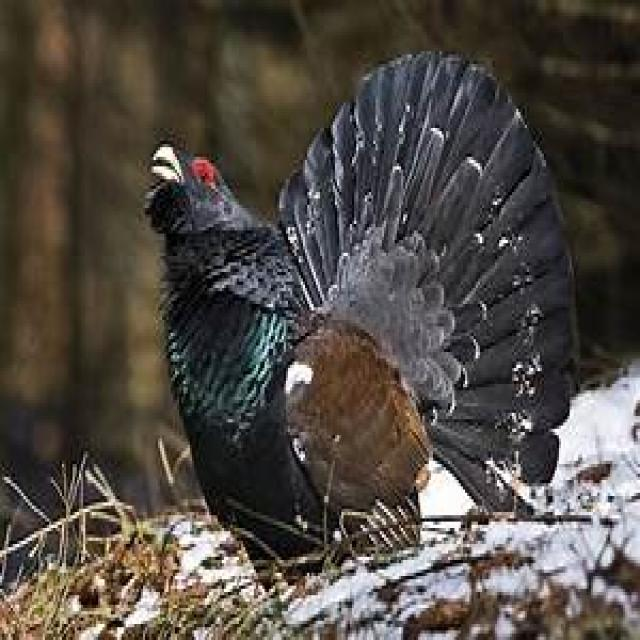chicken: (101, 28, 605, 512)
